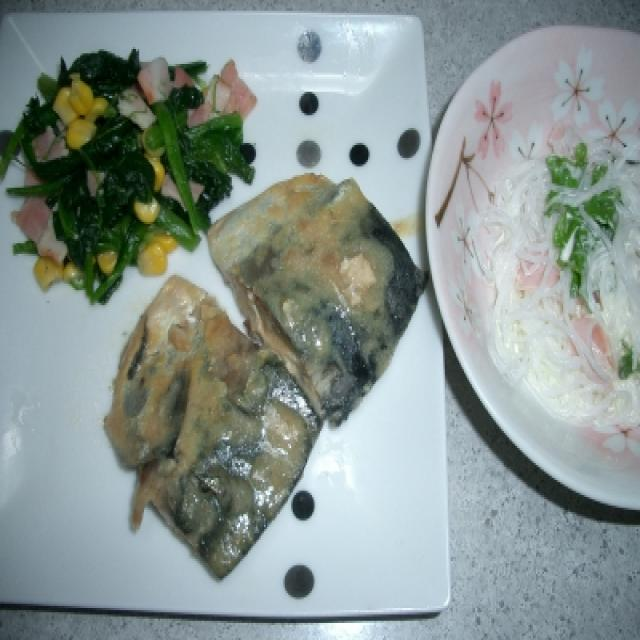蔬菜料理: (0, 21, 267, 308)
